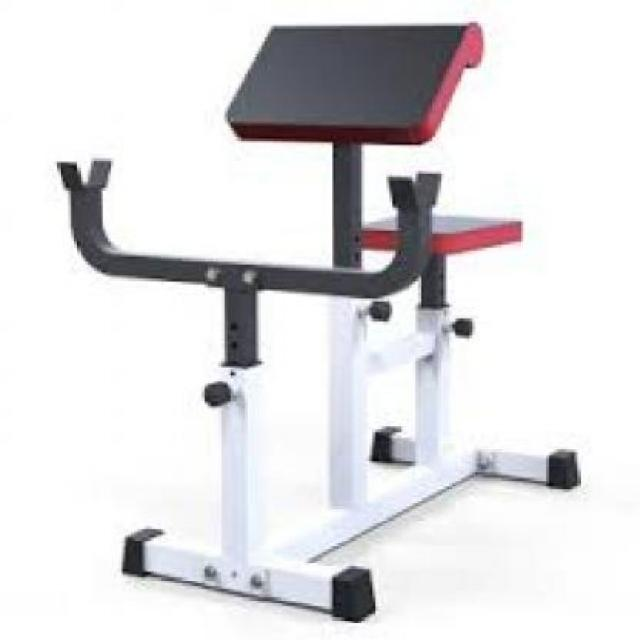arm curl machine: (56, 22, 582, 626)
